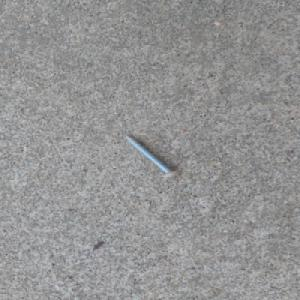Screw: (123, 134, 180, 179)
